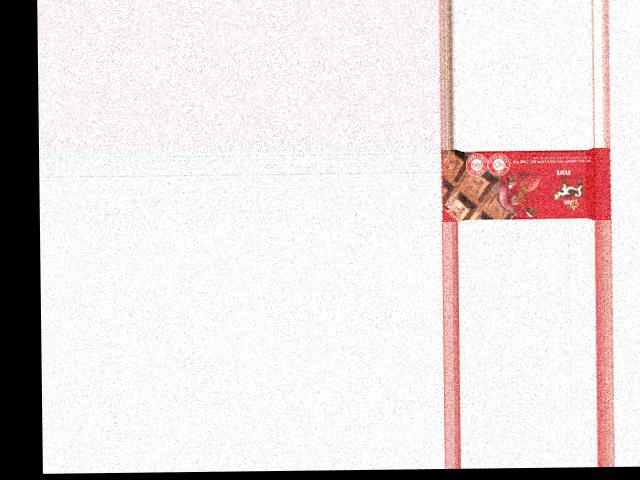chocolate: (442, 147, 612, 221)
